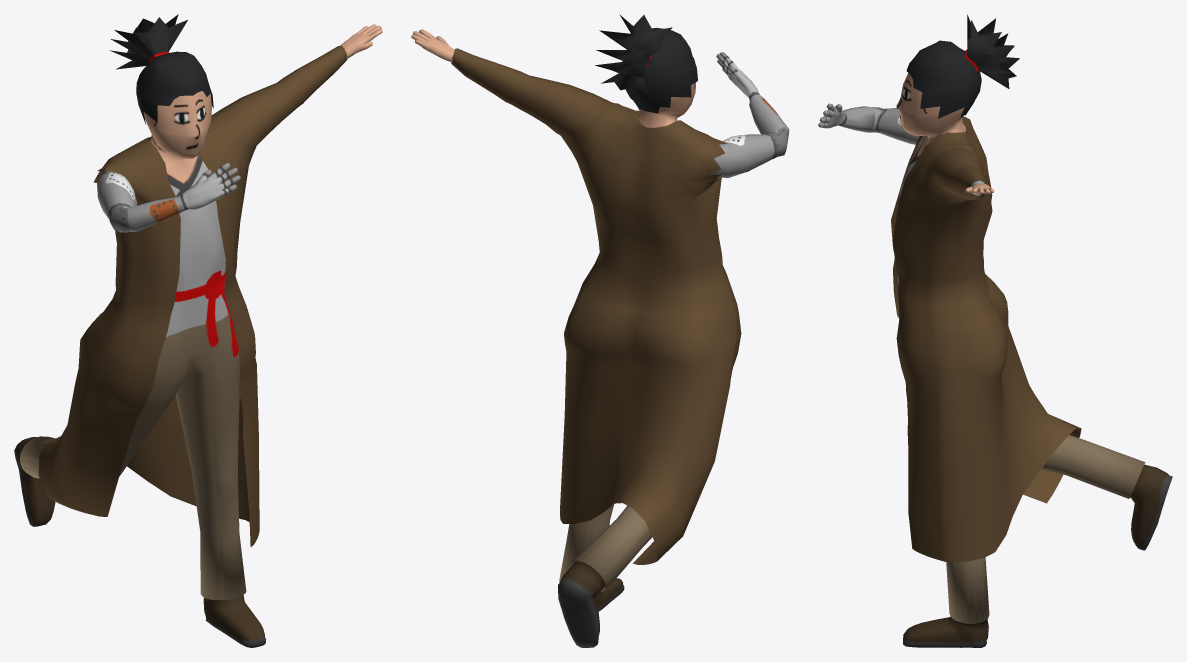
The model's file is hero pose one.obj.
The picture shows the model from 3 angles, left to right: view 1: azimuth 30°, elevation 25°; view 2: azimuth 150°, elevation 25°; view 3: azimuth 270°, elevation 25°; orthographic projection. The views are drawn at different scales.
Parts seen in each view (by area): view 1: jacket_Cube.003, modellll_Cube.002, hair_Cube.004; view 2: jacket_Cube.003, modellll_Cube.002, hair_Cube.004; view 3: jacket_Cube.003, modellll_Cube.002, hair_Cube.004.
Boxes of the visible parts, x1,y1,x2,y2 form: jacket_Cube.003: (38,45,347,546); modellll_Cube.002: (14,24,382,647); hair_Cube.004: (109,14,213,124); jacket_Cube.003: (451,48,741,564); modellll_Cube.002: (411,29,789,647); hair_Cube.004: (595,14,697,113); jacket_Cube.003: (891,116,1081,562); modellll_Cube.002: (818,73,1172,647); hair_Cube.004: (906,14,1019,118).
Size of the model in its own units: 1.69 by 3.08 by 1.67.
